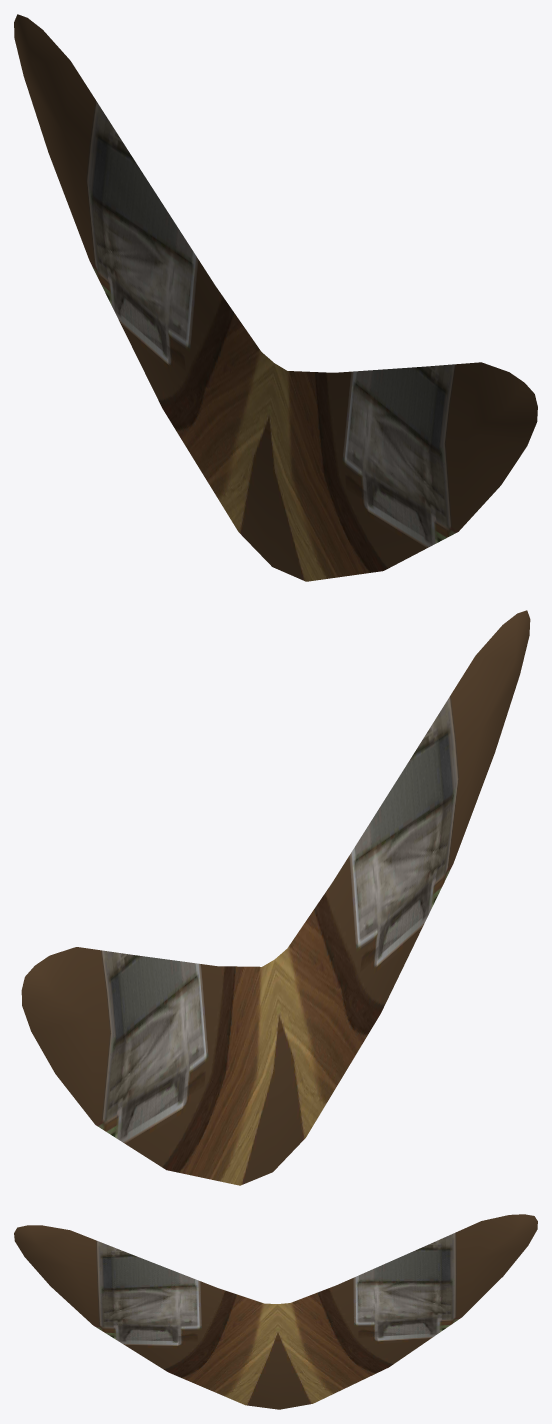
3 renders of one model, top to bottom at view 1: azimuth 30°, elevation 25°; view 2: azimuth 150°, elevation 25°; view 3: azimuth 270°, elevation 25°, orthographic. The views are drawn at different scales.
Visible parts, largest first — view 1: sm_0; view 2: sm_0; view 3: sm_0.
Part boxes in pixels (left/top/right/bottom): sm_0: left=14, top=14, right=537, bottom=581; sm_0: left=21, top=610, right=530, bottom=1185; sm_0: left=14, top=1214, right=537, bottom=1409.
Size of the model in its own units: 5 by 56.91 by 139.
